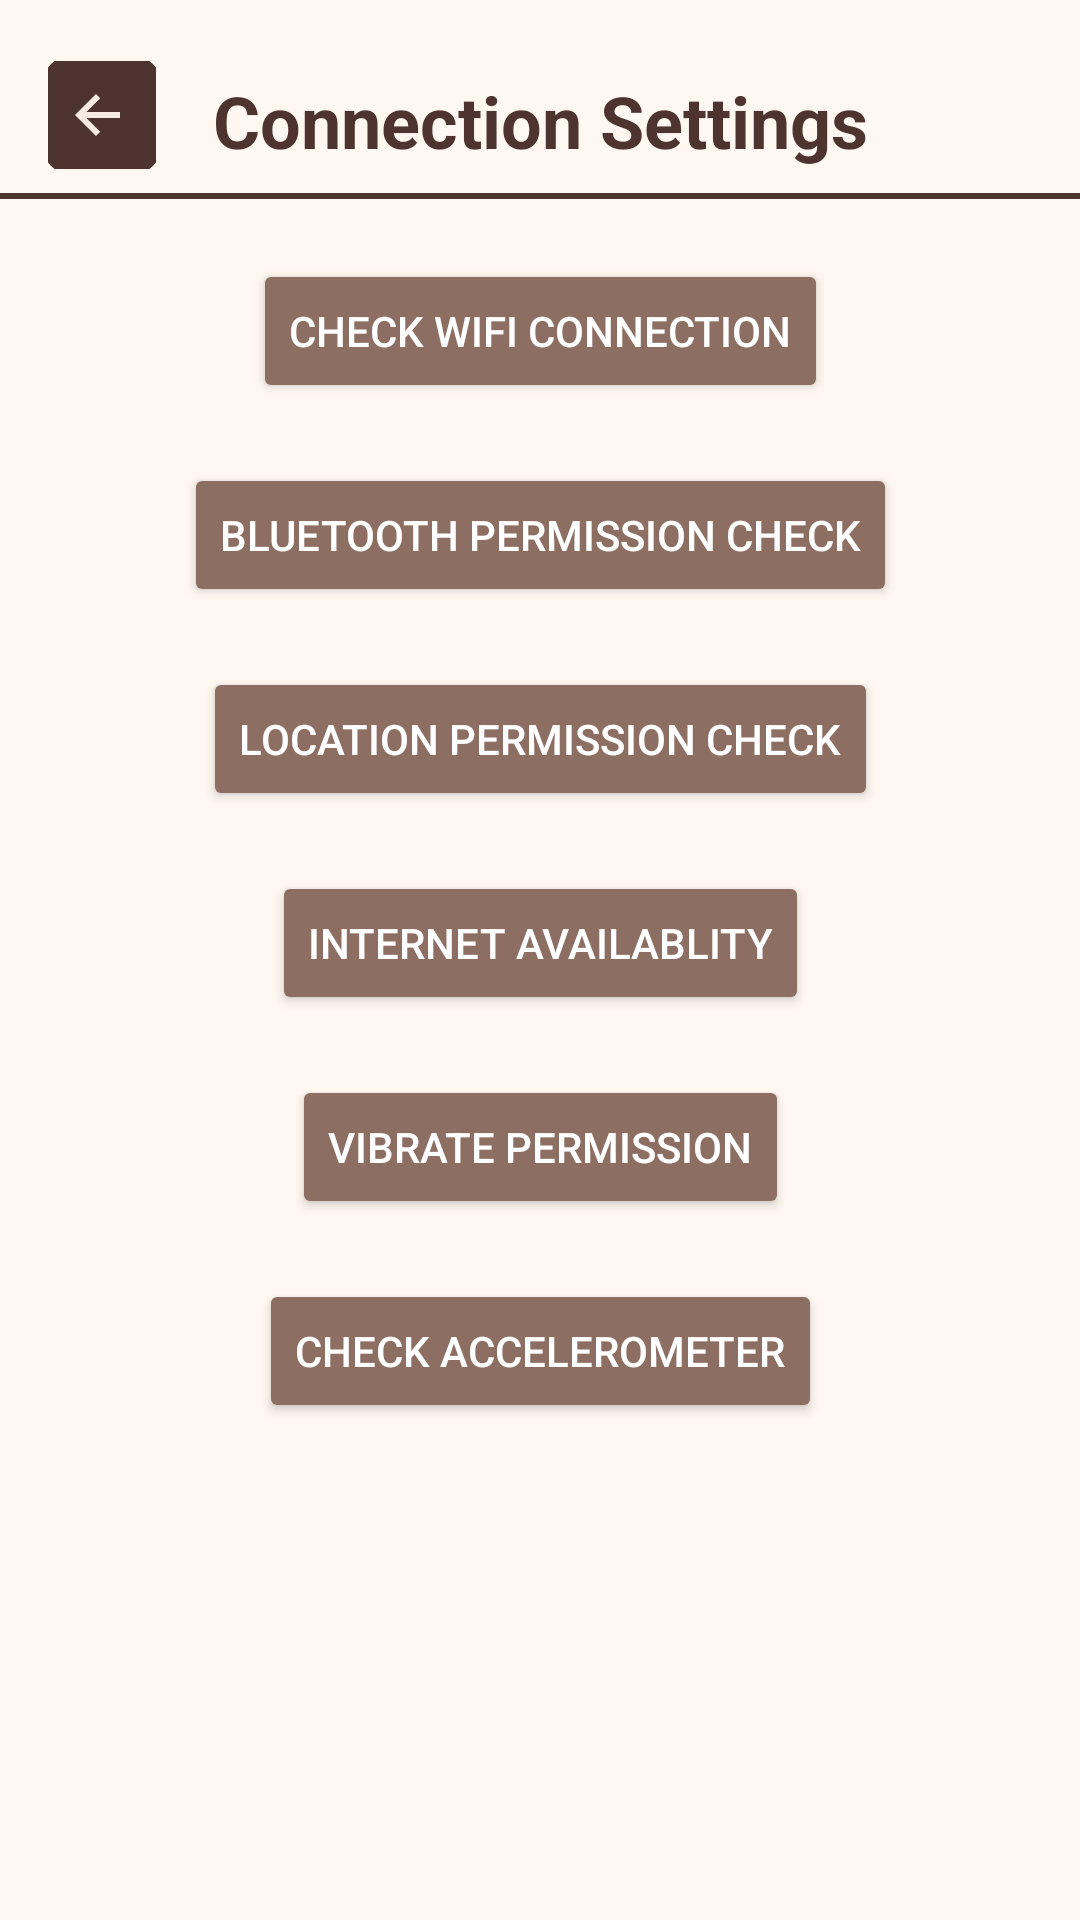

Icon bounding boxes for this 1080w x 1920h phone screenshot, format bbox=(x1, y1, x2, y2):
Back: bbox=(48, 61, 156, 169)
